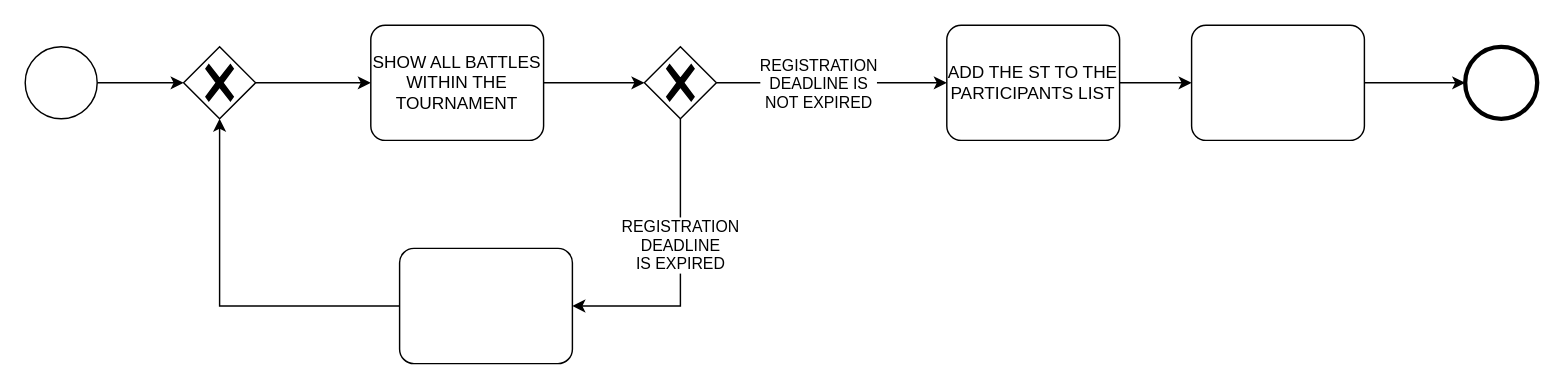
The diagram is 1562 pixels wide and 389 high, and some of its shapes have lost their labels. Each missing label, with the box of its shape:
SHOW AN ERROR MESSAGE: (398, 247, 572, 364)
SHOW THE CREATE GROUP PAGE: (1190, 24, 1364, 140)
